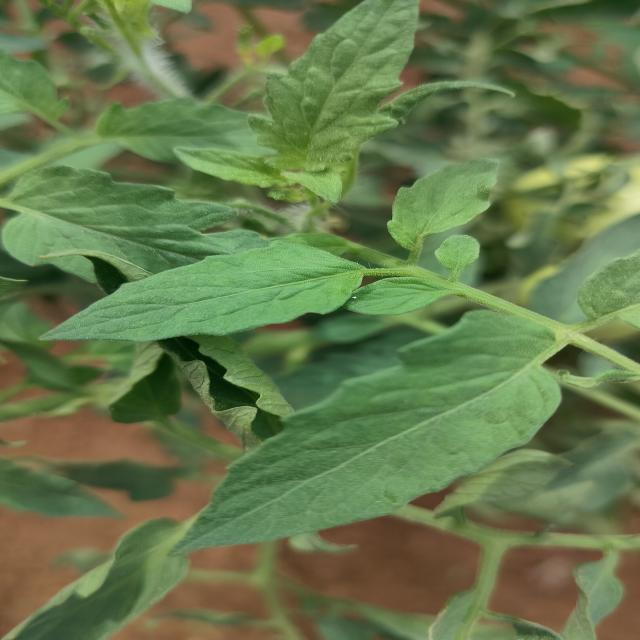tomato_healthy: (178, 310, 564, 552), (37, 237, 374, 342), (250, 0, 422, 184)
